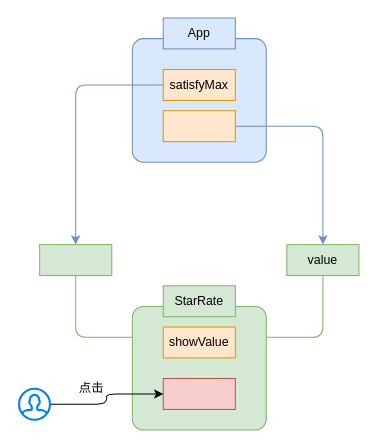
The diagram is 377 pixels wide and 448 high, and some of its shapes have lost their labels. The shapes that lost their labels are listed below. From the top down, each one's centre as x and y in pixels, then its label:
the point at 198,126: satisfy
the point at 75,260: max
the point at 198,393: value=?
